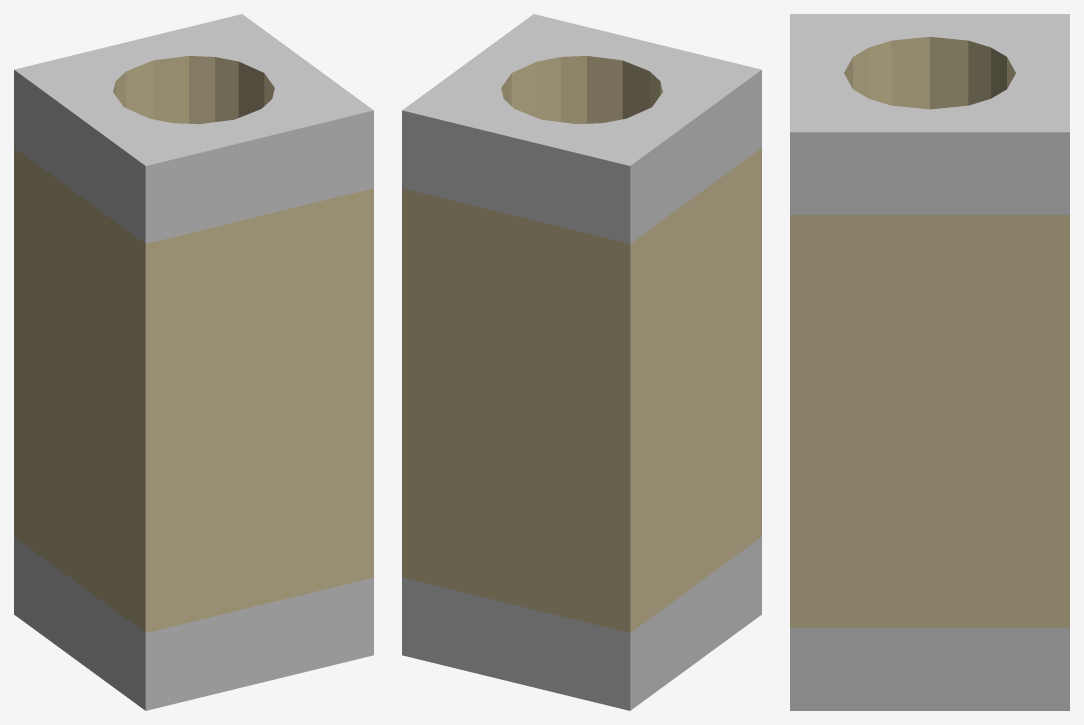
The model's file is Kiln Post.fbx.
3 views of the same model, side by side, from view 1: azimuth 30°, elevation 25°; view 2: azimuth 150°, elevation 25°; view 3: azimuth 270°, elevation 25° (orthographic). The views are drawn at different scales.
Parts seen in each view (by area): view 1: Post; view 2: Post; view 3: Post.
Part boxes in pixels (left/top/right/bottom): Post: left=14, top=14, right=373, bottom=710; Post: left=402, top=14, right=761, bottom=710; Post: left=790, top=14, right=1069, bottom=710.
Size of the model in its own units: 46.94 by 107 by 46.94.
